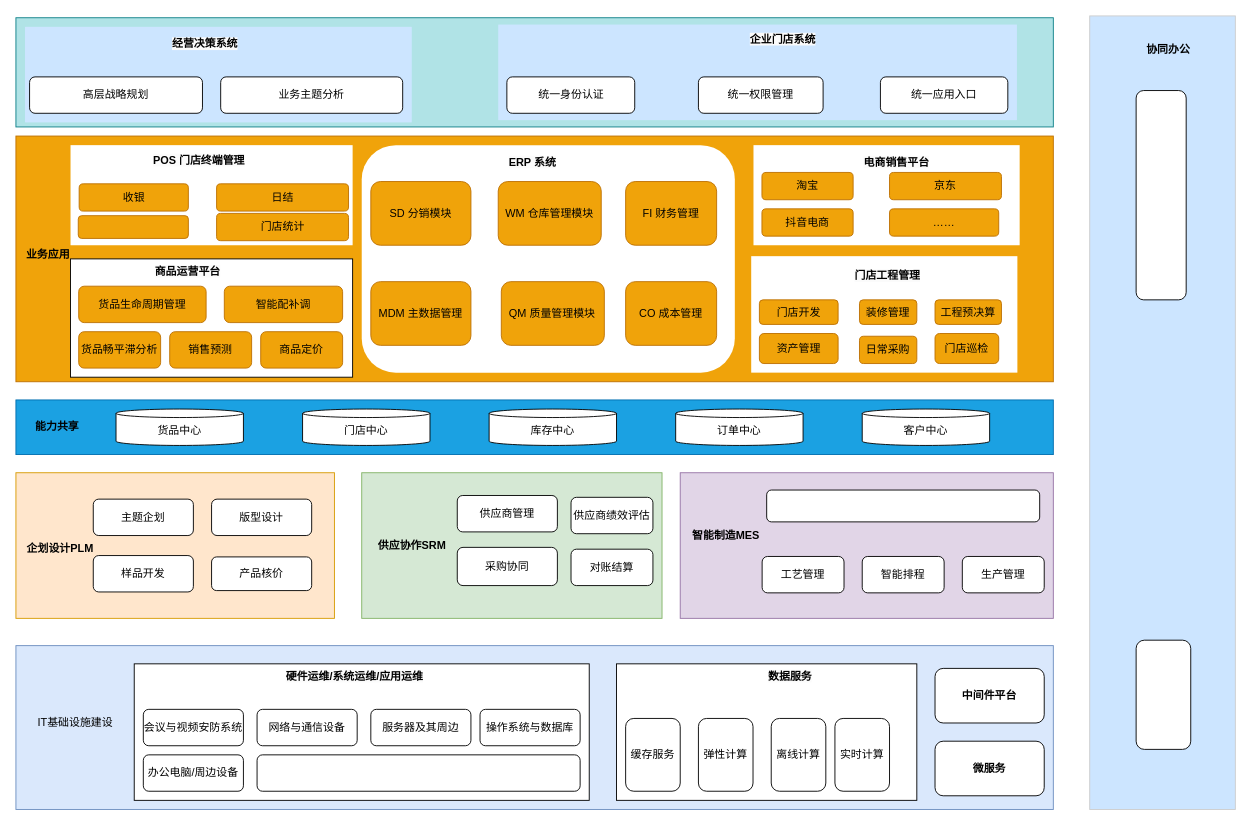
Image size: 1251x825. Some labels were removed from this diagram. The centre of each missing label's shape, as x and y in pixels:
办 公 自 动 化 O A 系 统: the point at 1160,195
即 时 通 讯 IM: the point at 1163,694
数据中心: the point at 418,772
过程可视化 产线看板/ 生产监控: the point at 903,505
进销存: the point at 132,226
